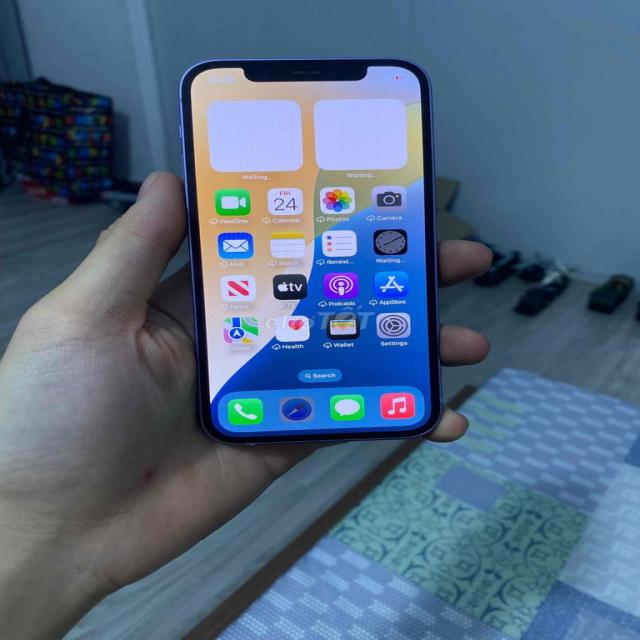gen_12_13: (170, 53, 453, 449)
